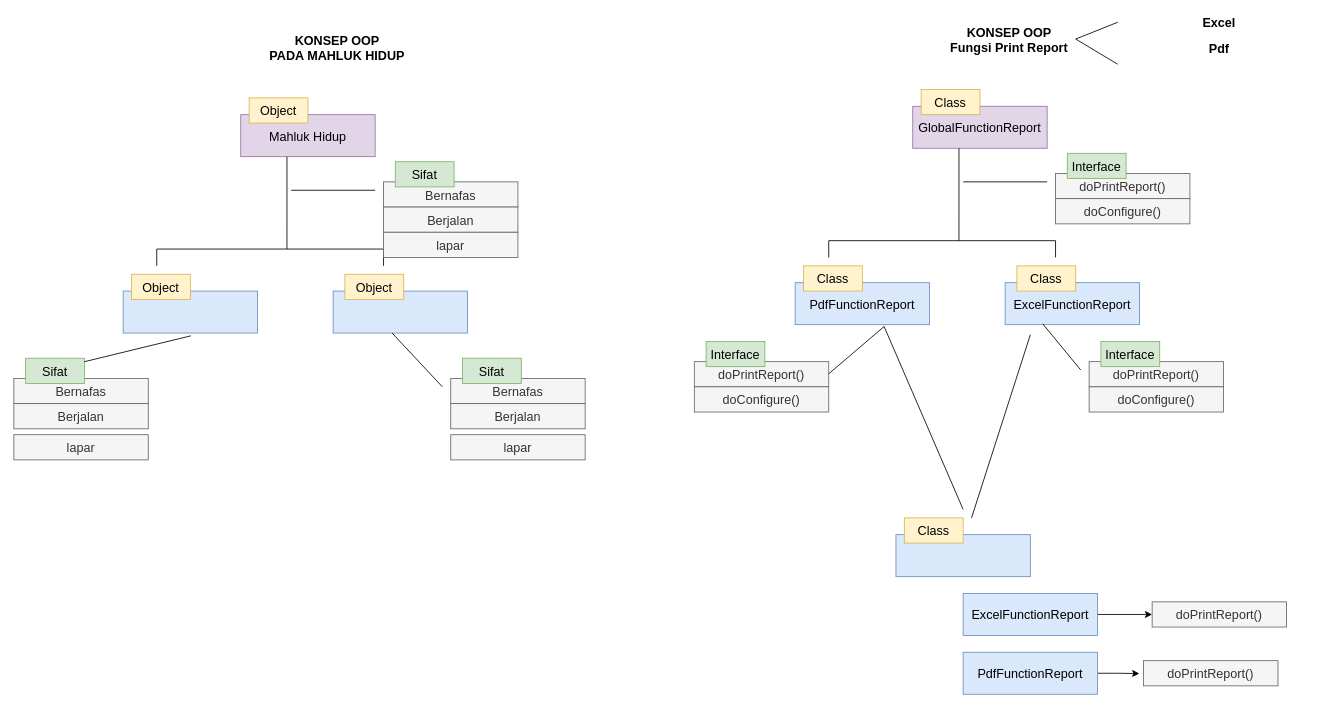
The diagram is 1321 pixels wide and 708 high, and some of its shapes have lost their labels. Each missing label, with the centre of its shape:
crudSalesReport.java: (962,555)
Hewan: (400,311)
Manusia: (190,311)
